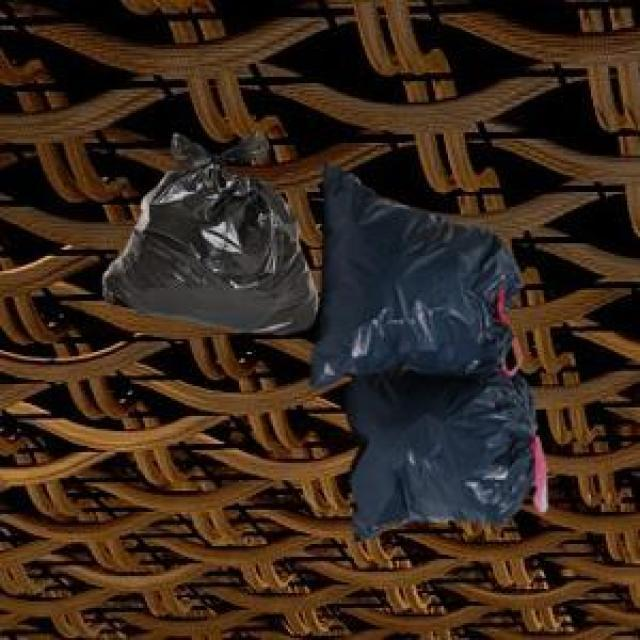miscellaneous trash: (305, 156, 542, 538), (100, 128, 314, 331)
